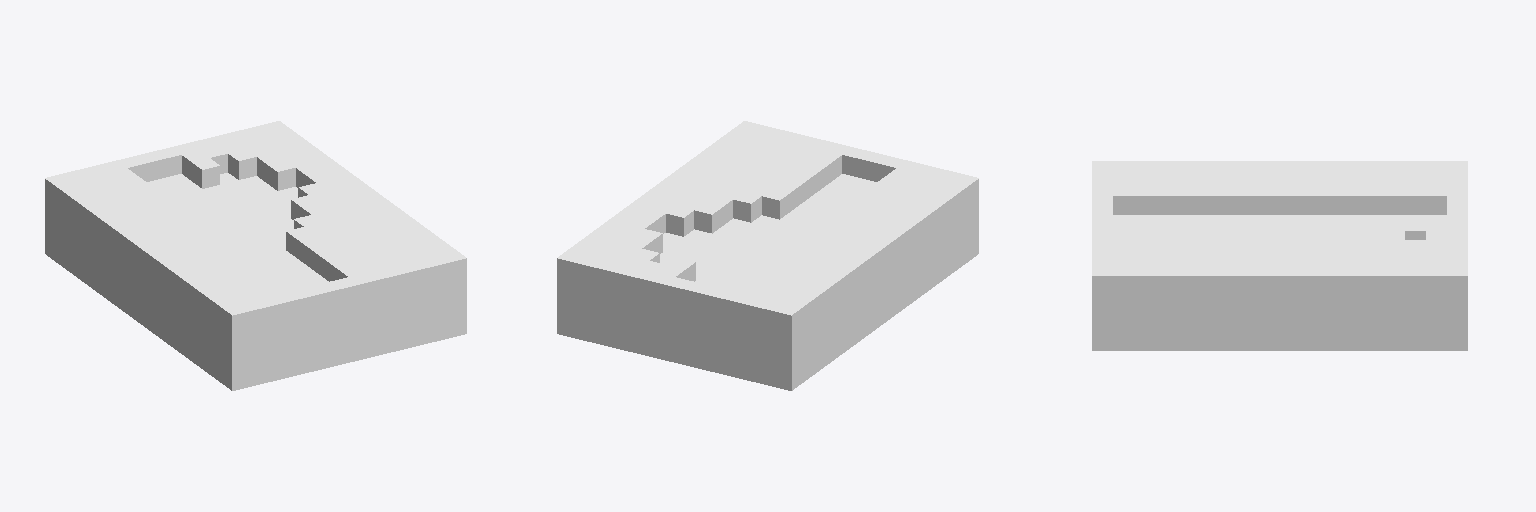
Rendered from rune1-place-0.obj.
3 renders of one model, left to right at view 1: azimuth 30°, elevation 25°; view 2: azimuth 150°, elevation 25°; view 3: azimuth 270°, elevation 25°, orthographic.
Parts seen in each view (by area): view 1: object 1; view 2: object 1; view 3: object 1.
Part boxes in pixels (left/top/right/bottom): object 1: left=45, top=121, right=466, bottom=390; object 1: left=557, top=121, right=978, bottom=390; object 1: left=1092, top=161, right=1467, bottom=350.
Size of the model in its own units: 1.3 by 0.4 by 1.8.